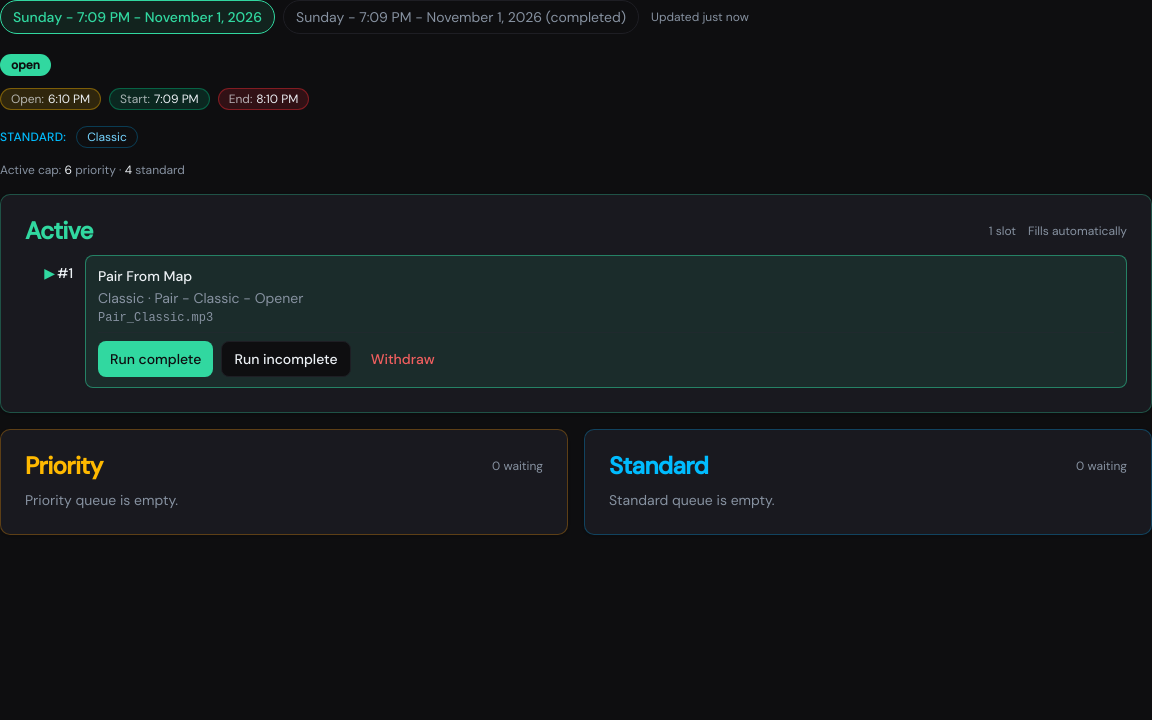
Test: LiveQueueSection › with today, lists today's sessions across events live first and fills labels the rows leave out
The width and height of the screenshot is (1152, 720).
Expected: the text "Pair From Map" is shown, [98,267,192,285]
Expected: the number of radio buttons is 2, [0,0,275,34]; [283,0,639,34]
Click the button "Withdraw" at [403, 359], box [359,341,447,377]
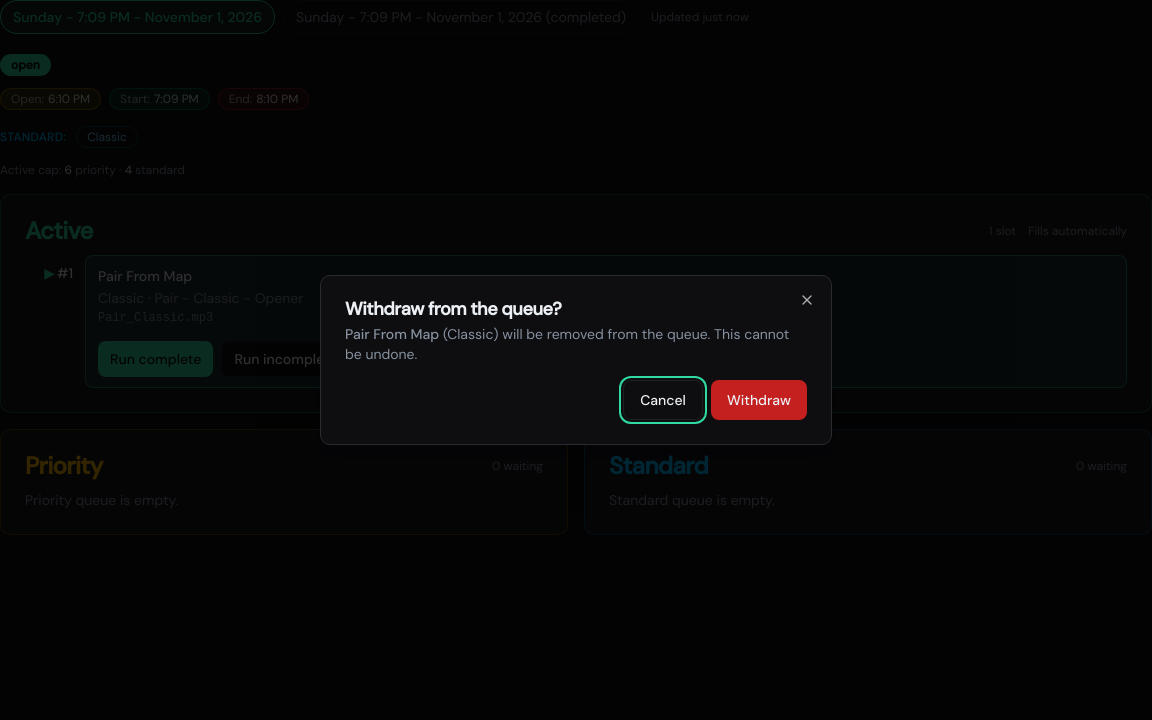
Expected: the dialog shows "Pair From Map (Classic) will be removed", [320,275,832,445]
